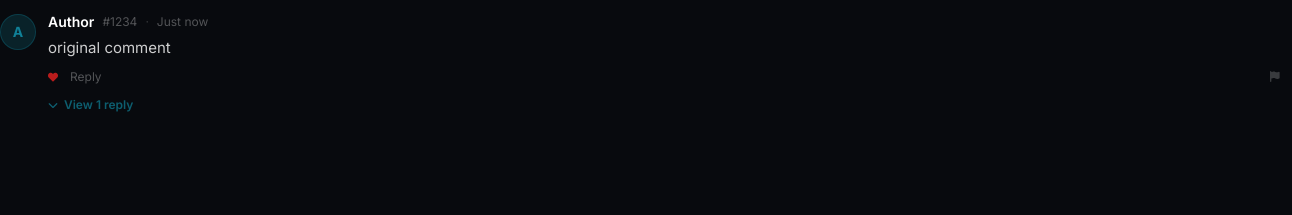
Test: CommentItem — replies › does not refetch replies on the second open (cached after first load)
What coordinates should you click on to do the following:
click the button "View 1 reply"
I would click on:
 (91, 105)
Its box is [48,97,133,113].
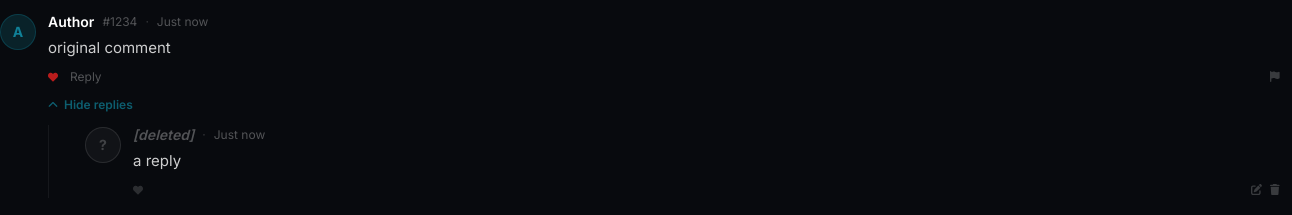
expect the text "a reply" is shown: met, box [133,151,181,170]
What coordinates should you click on to do the following:
click the button "Hide replies"
I would click on:
 (90, 105)
Its box is [48,97,133,113].
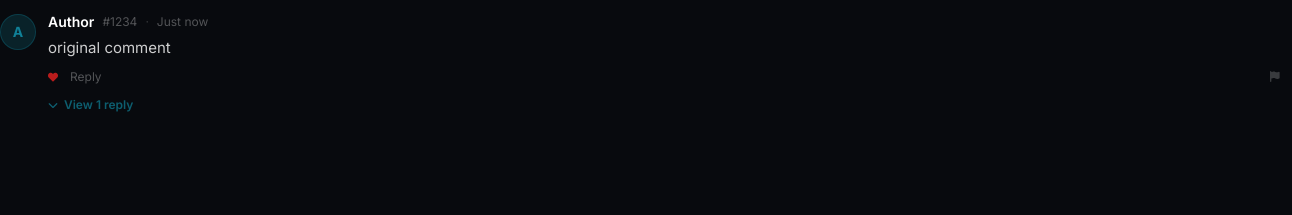
What coordinates should you click on to do the following:
click the button "View 1 reply"
I would click on:
 (91, 105)
Its box is [48,97,133,113].
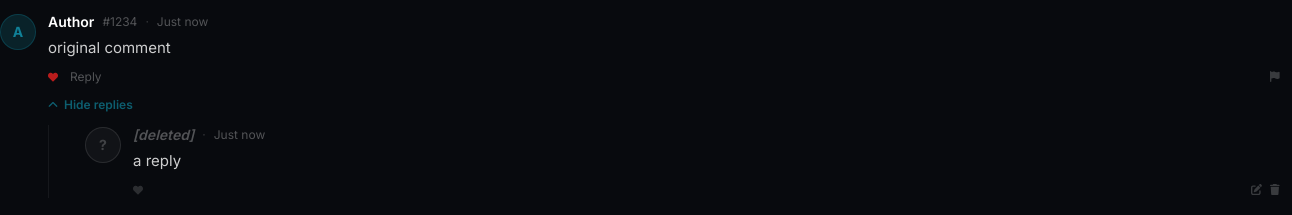
expect the text "a reply" is shown: met, box [133,151,181,170]
